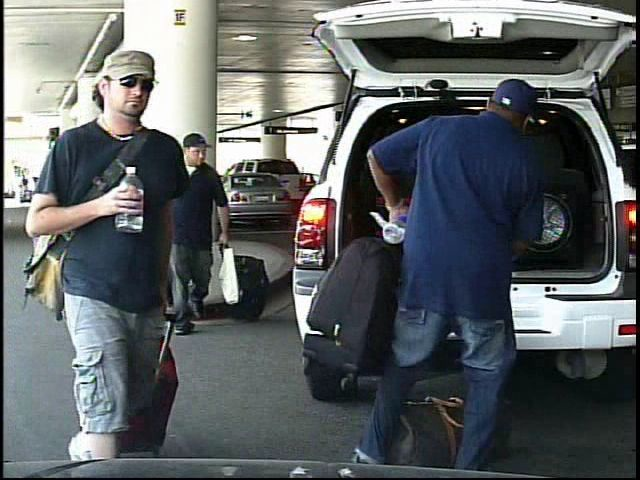person: (341, 72, 553, 470), (25, 47, 197, 474), (176, 119, 244, 333), (12, 170, 23, 201)
